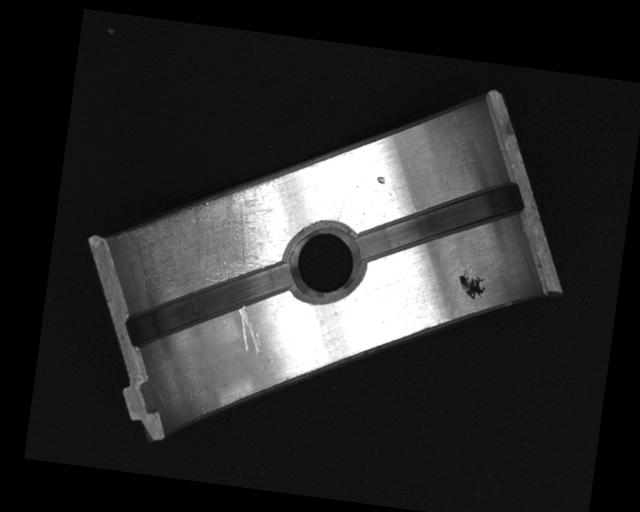blot: (454, 268, 488, 303)
bruise: (376, 175, 386, 185)
gap: (118, 242, 295, 369), (354, 162, 530, 281)
hole: (283, 220, 362, 301)
nick: (231, 305, 267, 357)
scratch: (108, 164, 288, 324)
